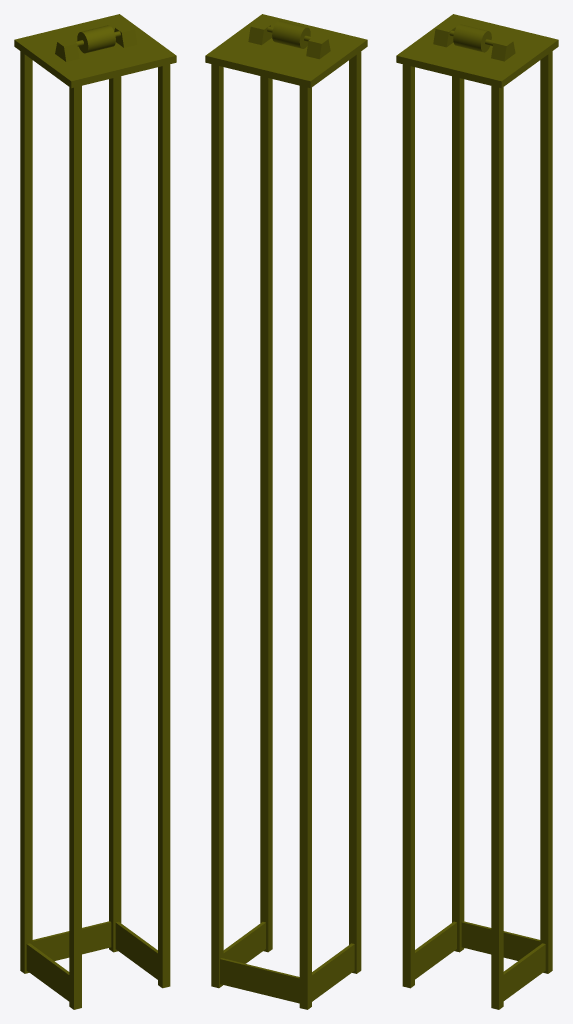
File: SoporteElevador.fbx
The picture shows the model from 3 angles, left to right: view 1: azimuth 30°, elevation 25°; view 2: azimuth 150°, elevation 25°; view 3: azimuth 330°, elevation 25°; orthographic projection.
Visible parts, largest first — view 1: MecanismoElevador; view 2: MecanismoElevador; view 3: MecanismoElevador.
Boxes of the visible parts, x1,y1,x2,y2 form: MecanismoElevador: (14,14,176,1009); MecanismoElevador: (205,14,367,1009); MecanismoElevador: (396,14,558,1009).
Size of the model in its own units: 7.87 by 67.96 by 7.37.
